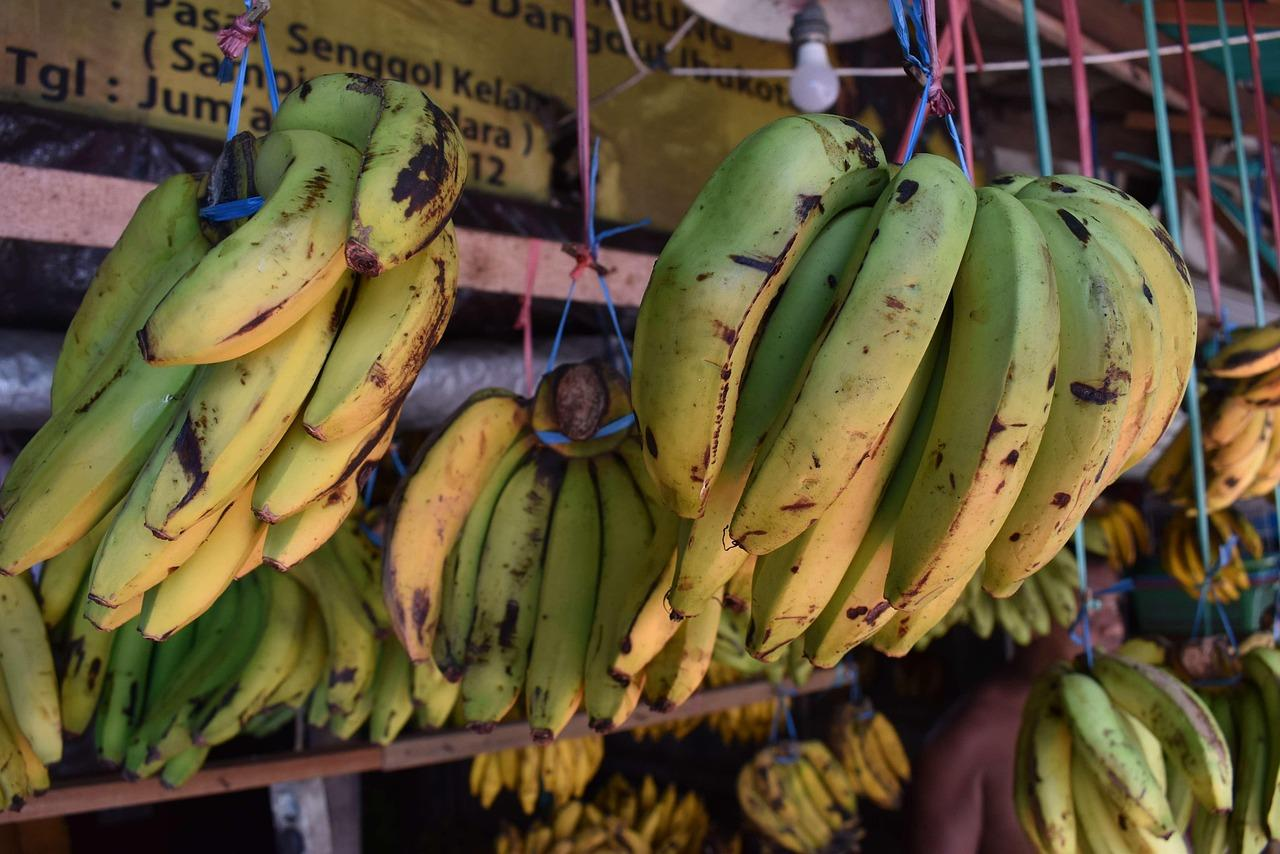apples: (0, 8, 1280, 854)
banana: (0, 15, 12, 47)
